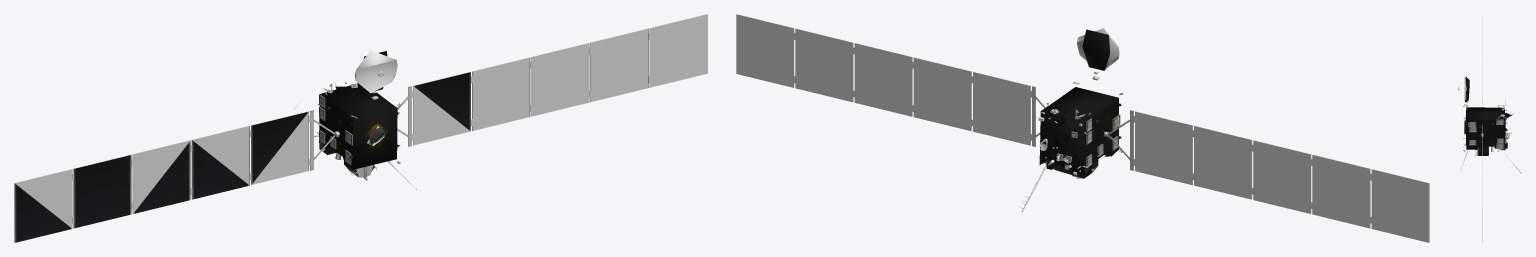
The model's file is space-rosetta.glb.
3 views of the same model, side by side, from view 1: azimuth 30°, elevation 25°; view 2: azimuth 150°, elevation 25°; view 3: azimuth 270°, elevation 25° (orthographic). The views are drawn at different scales.
Parts seen in each view (by area): view 1: dish, panels_01, black_krinkle; view 2: dish, black_krinkle, panels_01; view 3: black_krinkle, dish, panels_01, foil_gold.
Part boxes in pixels (<box>): dish: <box>14,14,707,242</box>; panels_01: <box>14,72,470,242</box>; black_krinkle: <box>319,51,397,169</box>; dish: <box>736,14,1429,242</box>; black_krinkle: <box>1039,29,1118,178</box>; panels_01: <box>1041,106,1120,169</box>; black_krinkle: <box>1465,76,1511,150</box>; dish: <box>1458,14,1521,242</box>; panels_01: <box>1468,107,1504,155</box>; foil_gold: <box>1464,120,1493,143</box>.
Bounding box in the file's own units: 31.96 × 6.88 × 4.41.
Materials: 7 (5 with a texture image).
